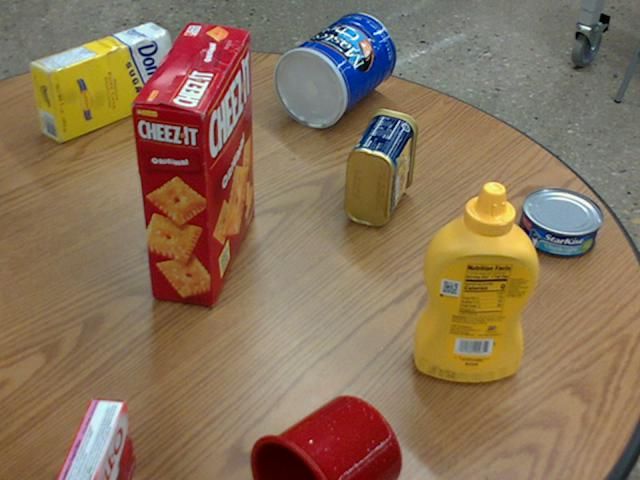cracker_box: (131, 23, 251, 305)
gelatin_box: (51, 399, 131, 479)
master_chef_can: (272, 12, 394, 127)
mug: (247, 396, 400, 479)
mustard_bottle: (412, 181, 537, 380)
potted_meat_can: (344, 108, 416, 225)
sugar_box: (29, 21, 173, 141)
tuna_fish_can: (517, 187, 600, 257)
